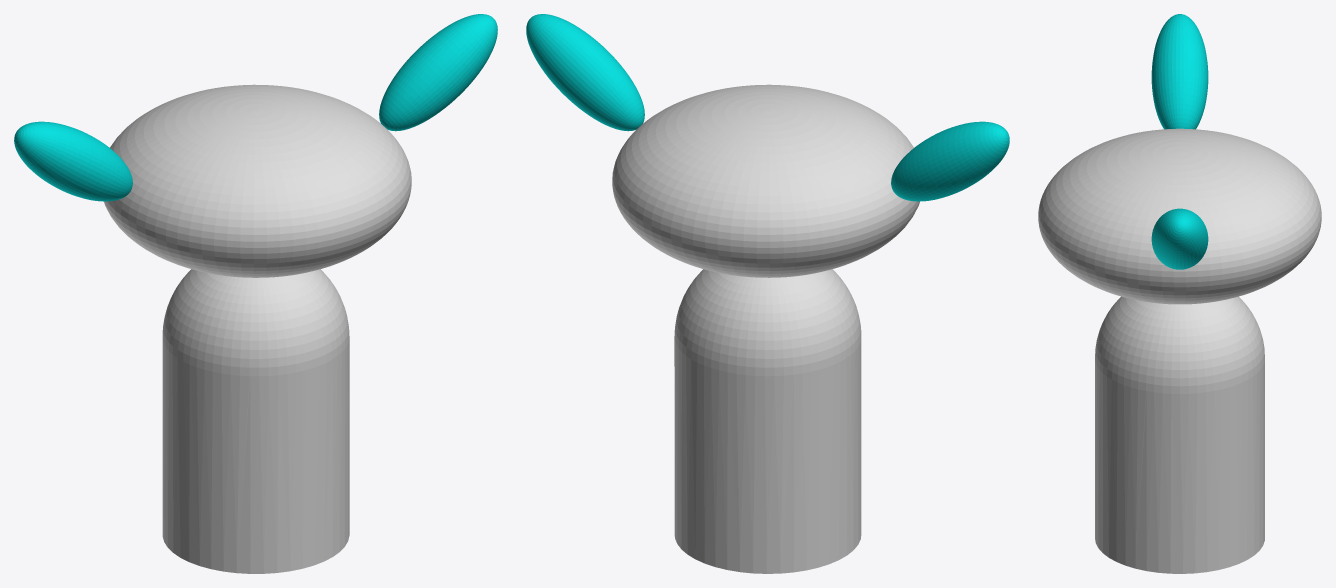
File: robot-guide-v1.glb
3 views of the same model, side by side, from view 1: azimuth 30°, elevation 25°; view 2: azimuth 150°, elevation 25°; view 3: azimuth 270°, elevation 25° (orthographic). The views are drawn at different scales.
Parts seen in each view (by area): view 1: Shape_IndexedFaceSet, Shape_IndexedFaceSet.001, Shape_IndexedFaceSet.003, Shape_IndexedFaceSet.002; view 2: Shape_IndexedFaceSet, Shape_IndexedFaceSet.001, Shape_IndexedFaceSet.003, Shape_IndexedFaceSet.002; view 3: Shape_IndexedFaceSet, Shape_IndexedFaceSet.001, Shape_IndexedFaceSet.002, Shape_IndexedFaceSet.003.
Boxes of the visible parts, x1,y1,x2,y2 form: Shape_IndexedFaceSet: (162, 269, 349, 573); Shape_IndexedFaceSet.001: (104, 84, 411, 277); Shape_IndexedFaceSet.003: (379, 14, 497, 131); Shape_IndexedFaceSet.002: (14, 121, 132, 201); Shape_IndexedFaceSet: (674, 269, 861, 573); Shape_IndexedFaceSet.001: (612, 84, 919, 277); Shape_IndexedFaceSet.003: (526, 14, 644, 131); Shape_IndexedFaceSet.002: (891, 121, 1009, 201); Shape_IndexedFaceSet: (1095, 296, 1264, 573); Shape_IndexedFaceSet.001: (1038, 128, 1321, 304); Shape_IndexedFaceSet.002: (1151, 14, 1208, 129); Shape_IndexedFaceSet.003: (1151, 208, 1208, 269).
Bounding box in the file's own units: 1.78 × 1.64 × 0.9997.
